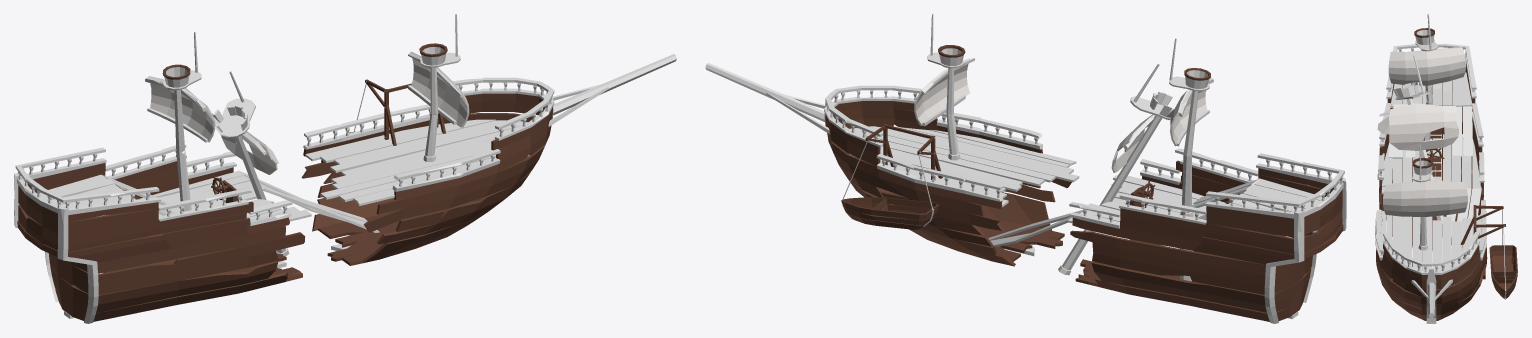
File: Shipwreck.fbx
3 renders of one model, left to right at view 1: azimuth 30°, elevation 25°; view 2: azimuth 150°, elevation 25°; view 3: azimuth 270°, elevation 25°, orthographic. The views are drawn at different scales.
Parts seen in each view (by area): view 1: Shipwreck; view 2: Shipwreck; view 3: Shipwreck.
Boxes of the visible parts, bbox=[...] form: Shipwreck: bbox=[14, 14, 676, 323]; Shipwreck: bbox=[705, 14, 1346, 323]; Shipwreck: bbox=[1375, 14, 1517, 323].
Size of the model in its own units: 43.2 by 16.6 by 10.51.
